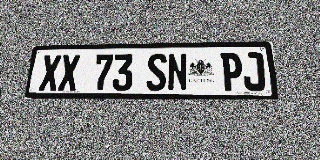3: (112, 54, 133, 91)
7: (92, 54, 114, 91)
J: (242, 52, 266, 91)
N: (167, 53, 188, 91)
P: (220, 52, 244, 91)
S: (146, 53, 167, 91)
X: (39, 55, 61, 91), (58, 55, 80, 91)
